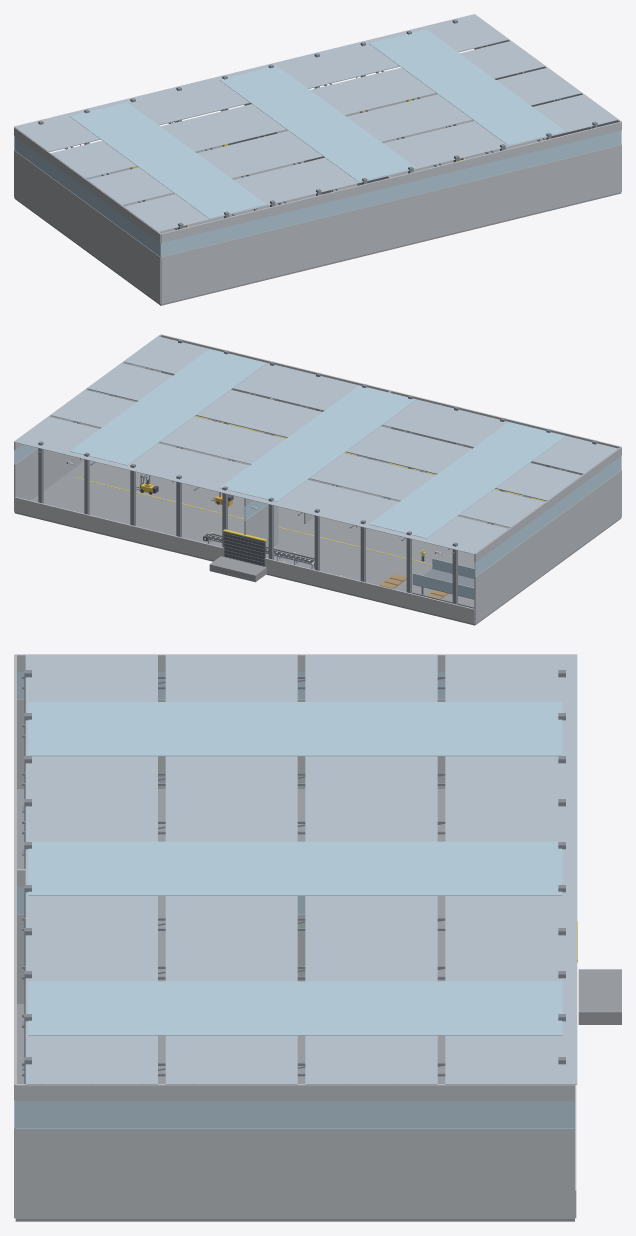
Rendered from warehouse-hall-v4.glb.
3 views of the same model, one above another, from view 1: azimuth 30°, elevation 25°; view 2: azimuth 150°, elevation 25°; view 3: azimuth 270°, elevation 25° (orthographic). The views are drawn at different scales.
Parts seen in each view (by area): view 1: GEO-wh_roof, GEO-wh_wall, GEO-wh_glass, GEO-wh_concrete, GEO-wh_steel; view 2: GEO-wh_roof, GEO-wh_glass, GEO-wh_wall, GEO-wh_concrete, GEO-wh_steel, GEO-wh_dark, GEO-wh_mark, GEO-v2wh_steel; view 3: GEO-wh_roof, GEO-wh_glass, GEO-wh_wall, GEO-wh_concrete, GEO-wh_steel.
Part boxes in pixels (box(x1,y1,x2,y2)): GEO-wh_roof: box(14, 14, 618, 232); GEO-wh_wall: box(14, 14, 621, 304); GEO-wh_glass: box(14, 29, 621, 257); GEO-wh_concrete: box(14, 94, 621, 305); GEO-wh_steel: box(38, 19, 597, 229); GEO-wh_roof: box(14, 336, 618, 554); GEO-wh_glass: box(14, 349, 621, 598); GEO-wh_wall: box(14, 334, 621, 623); GEO-wh_concrete: box(14, 415, 621, 625); GEO-wh_steel: box(38, 339, 597, 608); GEO-wh_dark: box(216, 494, 265, 566); GEO-wh_mark: box(76, 416, 545, 576); GEO-v2wh_steel: box(67, 399, 435, 569); GEO-wh_roof: box(25, 654, 577, 1084); GEO-wh_glass: box(14, 671, 574, 1128); GEO-wh_wall: box(14, 654, 576, 1218); GEO-wh_concrete: box(15, 789, 621, 1221); GEO-wh_steel: box(22, 670, 565, 1084).
Bounding box in the file's own units: 80.24 × 12.3 × 47.82.
